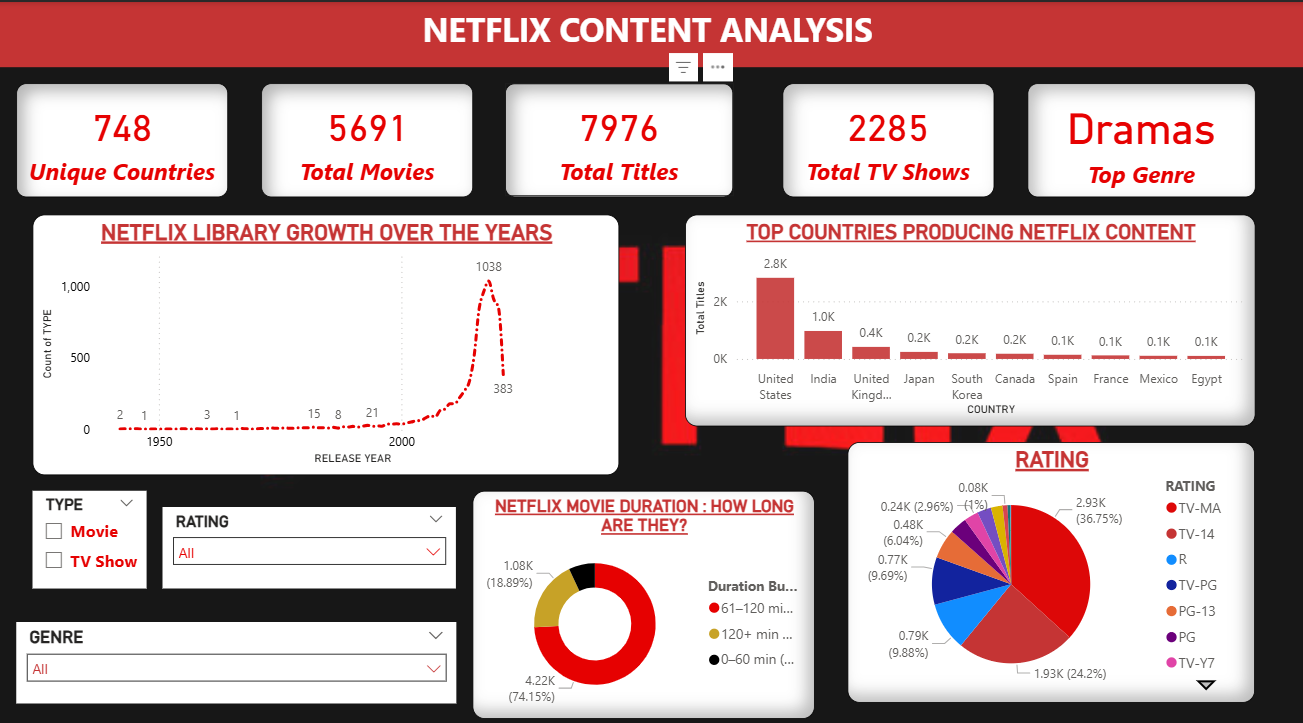

Layout of this report page (visuals, bound fields, positions):
{"tool":"powerbi","page":{"name":"DASHBOARD FINAL","canvas":[1280,720],"ordinal":0},"visuals":[{"type":"textbox","box":[0,0,1280,64],"z":0},{"type":"card","fields":{"Values":["SHEET 1.Total Titles"]},"box":[496,80,224,112],"z":1000},{"type":"card","fields":{"Values":["SHEET 1.Total Movies"]},"box":[256,80,208,112],"z":2000},{"type":"card","fields":{"Values":["SHEET 1.Total TV Shows"]},"box":[768,80,208,112],"z":3000},{"type":"lineChart","title":"NETFLIX LIBRARY GROWTH OVER THE YEARS ","fields":{"Category":["SHEET 1.RELEASE YEAR"],"Y":["CountNonNull(SHEET 1.TYPE)"]},"box":[32,208,576,256],"z":4000},{"type":"card","fields":{"Values":["SHEET 1.Unique Countries"]},"box":[16,80,208,112],"z":5000},{"type":"card","fields":{"Values":["SHEET 1.Top Genre"]},"box":[1008,80,224,112],"z":6000},{"type":"pieChart","title":"RATING","fields":{"Y":["CountNonNull(SHEET 1.TYPE)"],"Category":["SHEET 1.RATING"]},"box":[832,432,400,256],"z":7000},{"type":"columnChart","title":"TOP COUNTRIES PRODUCING NETFLIX CONTENT","fields":{"Category":["SHEET 1.COUNTRY"],"Y":["SHEET 1.Total Titles"]},"box":[672,208,560,208],"z":8000},{"type":"donutChart","title":"NETFLIX MOVIE DURATION : HOW LONG ARE THEY?","fields":{"Category":["SHEET 1.Duration Bucket"],"Y":["CountNonNull(SHEET 1.TYPE)"]},"box":[464,480,336,224],"z":9000},{"type":"slicer","fields":{"Values":["SHEET 1.TYPE"]},"box":[32,480,112,96],"z":10000},{"type":"slicer","fields":{"Values":["SHEET 1.GENRE"]},"box":[16,608,432,80],"z":11000},{"type":"slicer","fields":{"Values":["SHEET 1.RATING"]},"box":[160,496,288,80],"z":12000}]}

Visuals, with their boxes in screenshot pixels (x1, y1, x2, y2), scaled from the page's 1280x720 canvas onto the 1303x723 screenshot:
textbox: (x1=0, y1=0, x2=1302, y2=64)
card - SHEET 1.Total Titles: (x1=505, y1=80, x2=733, y2=193)
card - SHEET 1.Total Movies: (x1=261, y1=80, x2=472, y2=193)
card - SHEET 1.Total TV Shows: (x1=782, y1=80, x2=994, y2=193)
"NETFLIX LIBRARY GROWTH OVER THE YEARS " lineChart: (x1=33, y1=209, x2=619, y2=466)
card - SHEET 1.Unique Countries: (x1=16, y1=80, x2=228, y2=193)
card - SHEET 1.Top Genre: (x1=1026, y1=80, x2=1254, y2=193)
"RATING" pieChart: (x1=847, y1=434, x2=1254, y2=691)
"TOP COUNTRIES PRODUCING NETFLIX CONTENT" columnChart: (x1=684, y1=209, x2=1254, y2=418)
"NETFLIX MOVIE DURATION : HOW LONG ARE THEY?" donutChart: (x1=472, y1=482, x2=814, y2=707)
slicer - SHEET 1.TYPE: (x1=33, y1=482, x2=147, y2=578)
slicer - SHEET 1.GENRE: (x1=16, y1=611, x2=456, y2=691)
slicer - SHEET 1.RATING: (x1=163, y1=498, x2=456, y2=578)
